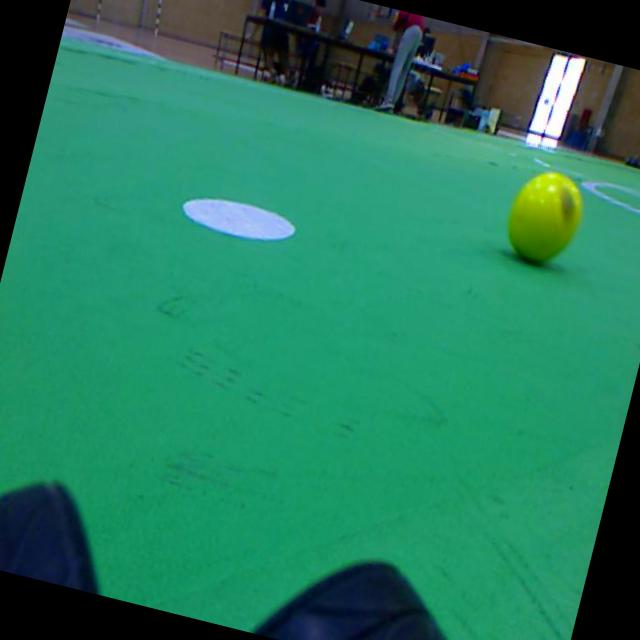ball: (508, 171, 581, 261)
